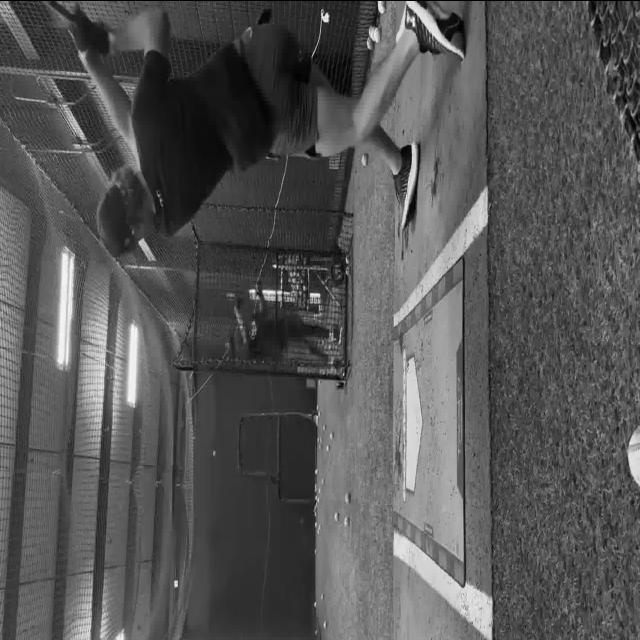base: (405, 349, 422, 495)
baseball: (627, 424, 639, 486), (366, 37, 374, 51), (378, 0, 386, 14), (361, 153, 368, 167), (344, 492, 350, 504), (344, 516, 349, 527), (334, 511, 339, 521), (329, 432, 334, 440), (323, 620, 327, 628), (326, 444, 330, 452), (321, 477, 325, 485), (320, 593, 324, 601), (322, 424, 326, 430), (314, 601, 317, 607), (314, 548, 316, 554)
bat: (18, 0, 68, 33)
shoe: (404, 1, 466, 60), (391, 142, 419, 230)
